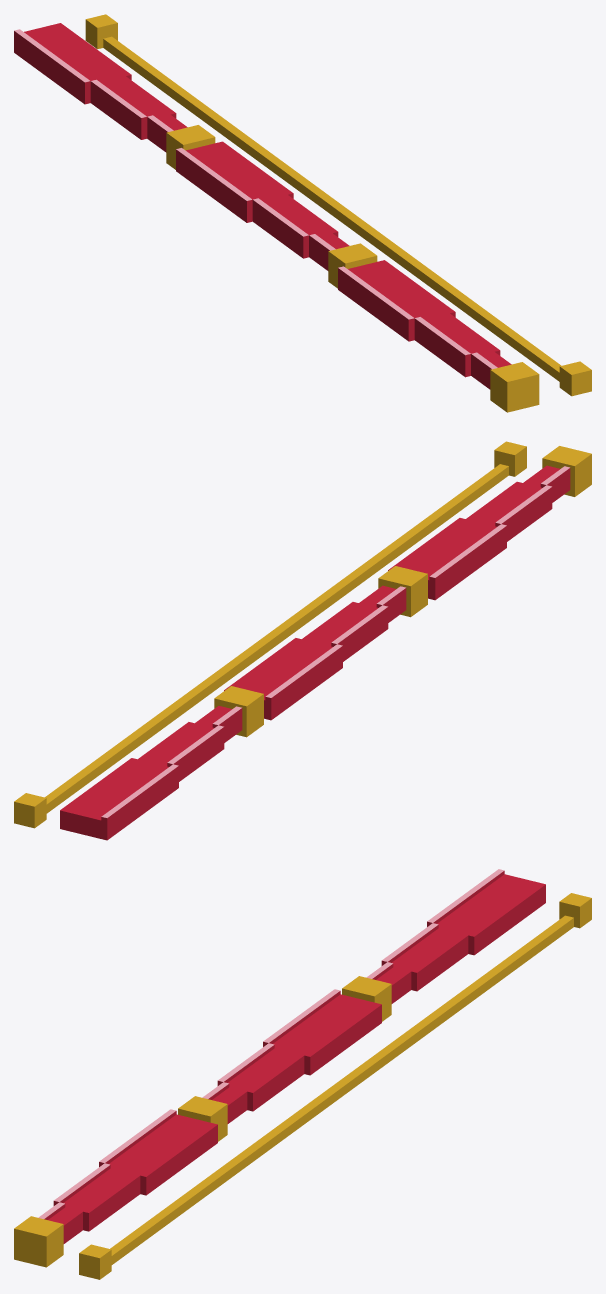
Rendered from fx_longreach.glb.
3 renders of one model, top to bottom at view 1: azimuth 30°, elevation 25°; view 2: azimuth 150°, elevation 25°; view 3: azimuth 330°, elevation 25°, orthographic.
Visible parts, largest first — view 1: longreach_long_reach_segment_L3_Mesh1, longreach_long_reach_ruler_Mesh1, longreach_long_reach_segment_L2_Mesh1, longreach_long_reach_segment_L1_Mesh1; view 2: longreach_long_reach_segment_L1_Mesh1, longreach_long_reach_ruler_Mesh1, longreach_long_reach_segment_L2_Mesh1, longreach_long_reach_segment_L3_Mesh1; view 3: longreach_long_reach_segment_L3_Mesh1, longreach_long_reach_ruler_Mesh1, longreach_long_reach_segment_L2_Mesh1, longreach_long_reach_segment_L1_Mesh1.
Part boxes in pixels (x1=…): longreach_long_reach_segment_L3_Mesh1: x1=338, y1=260, x2=539, y2=412; longreach_long_reach_ruler_Mesh1: x1=85, y1=14, x2=591, y2=396; longreach_long_reach_segment_L2_Mesh1: x1=176, y1=141, x2=377, y2=288; longreach_long_reach_segment_L1_Mesh1: x1=14, y1=23, x2=215, y2=169; longreach_long_reach_segment_L1_Mesh1: x1=60, y1=686, x2=263, y2=840; longreach_long_reach_ruler_Mesh1: x1=14, y1=441, x2=526, y2=828; longreach_long_reach_segment_L2_Mesh1: x1=224, y1=566, x2=427, y2=720; longreach_long_reach_segment_L3_Mesh1: x1=388, y1=446, x2=591, y2=600; longreach_long_reach_segment_L3_Mesh1: x1=14, y1=1109, x2=217, y2=1267; longreach_long_reach_ruler_Mesh1: x1=79, y1=893, x2=591, y2=1279; longreach_long_reach_segment_L2_Mesh1: x1=178, y1=989, x2=381, y2=1141; longreach_long_reach_segment_L1_Mesh1: x1=342, y1=869, x2=545, y2=1021.
Bounding box in the file's own units: 0.315 × 0.1 × 2.88.
